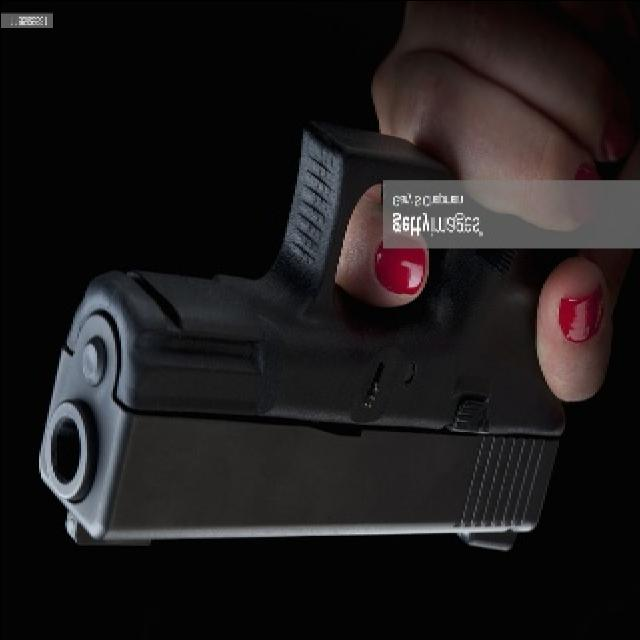handgun: (31, 141, 543, 566)
